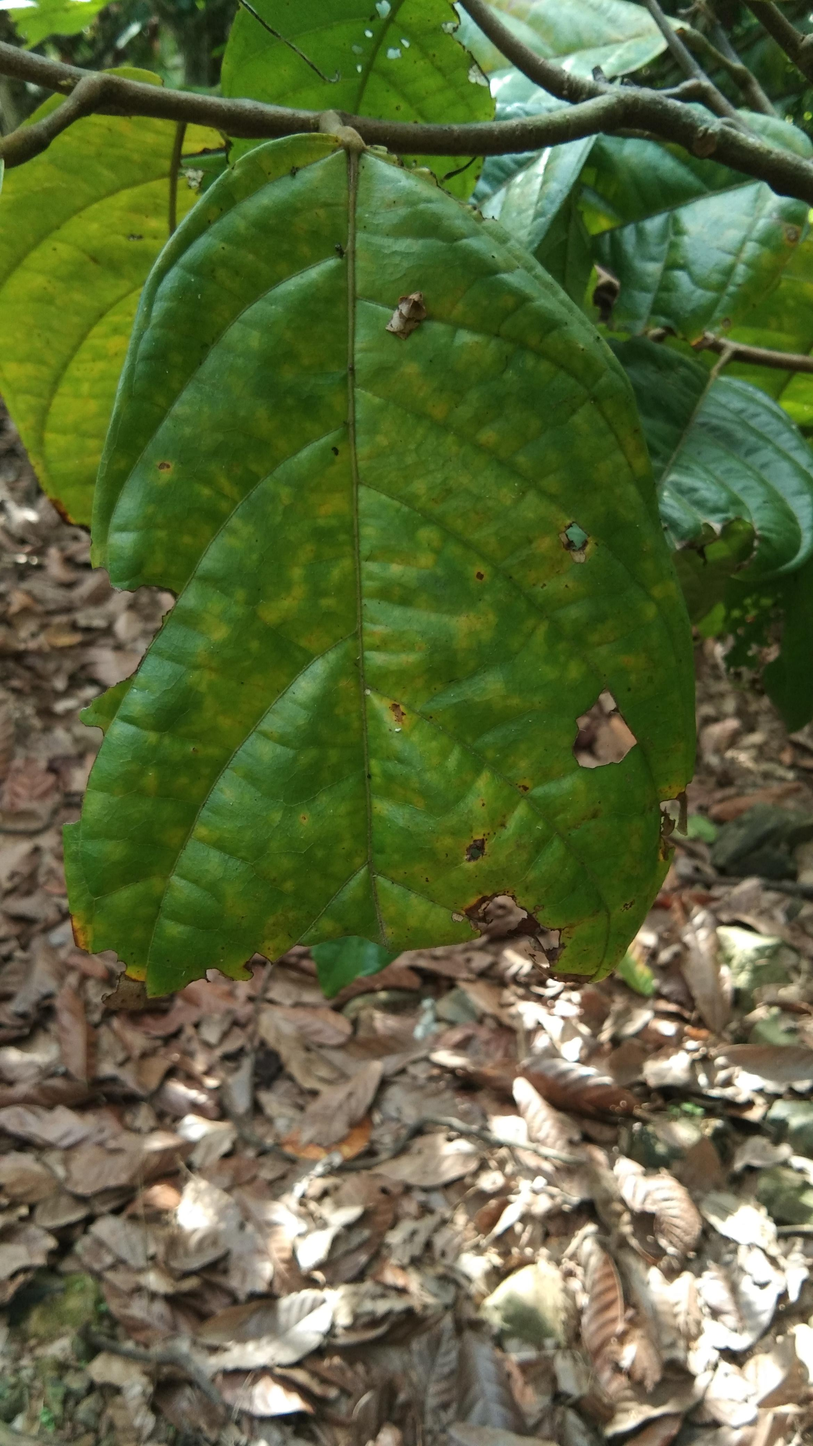deficiencia_potasio: (52, 134, 697, 998)
